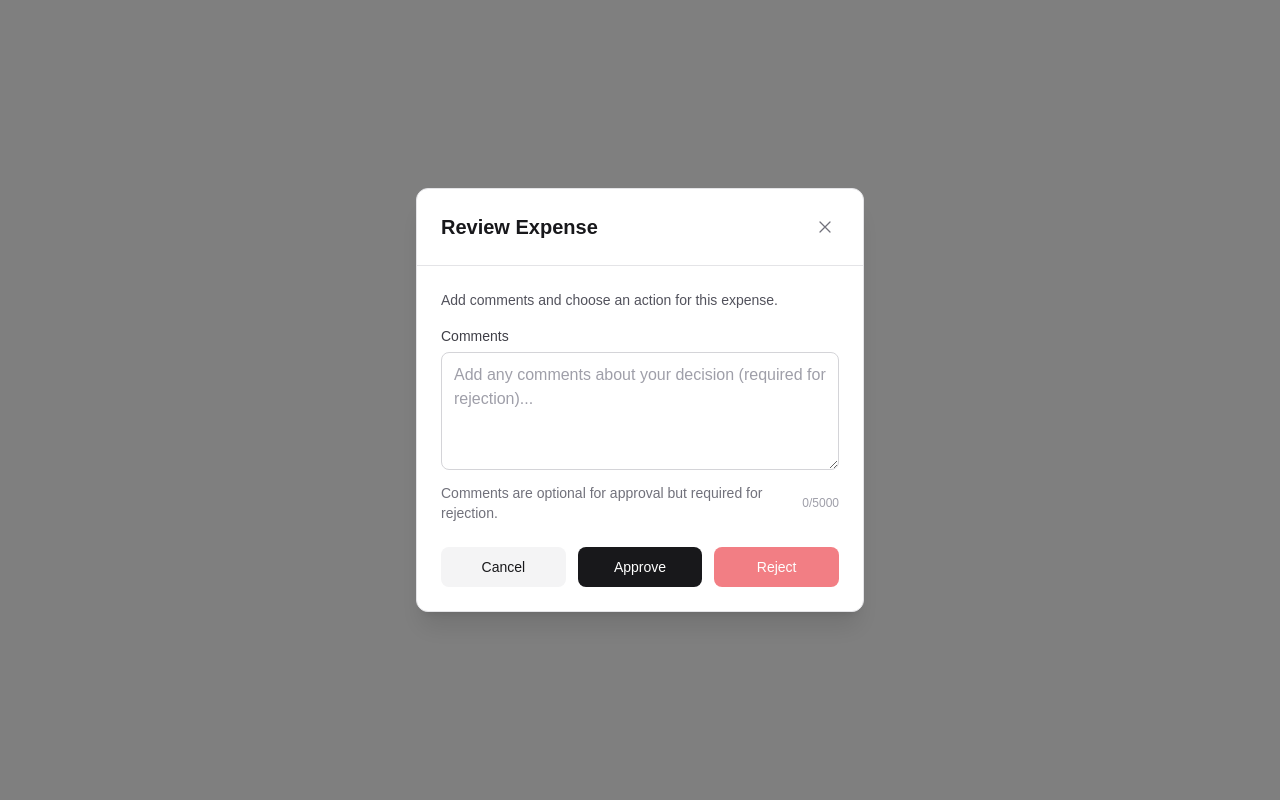
Test: ApprovalModal › Approve Functionality › should handle network error during approval
This screenshot has width=1280, height=800.
Click the button "Approve".
click(640, 567)  # box [578,547,702,587]
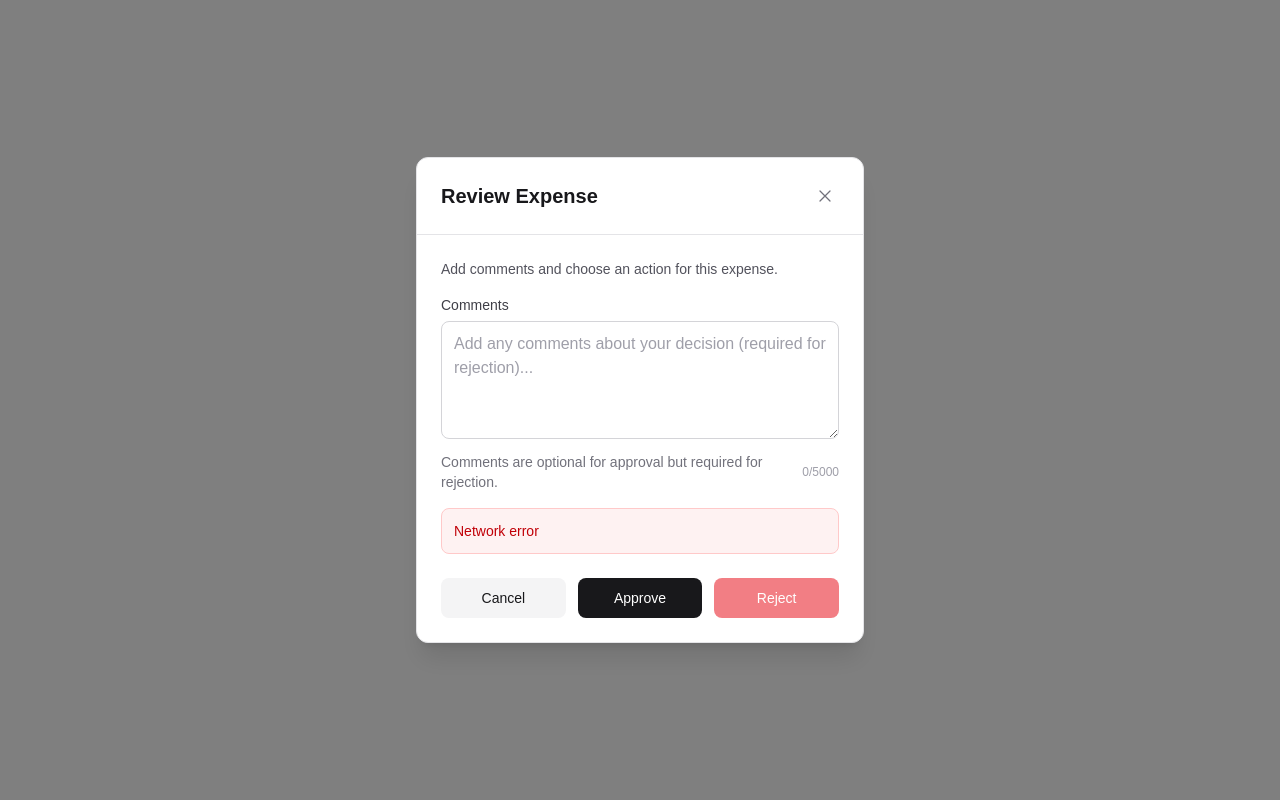
Check: the text "Network error" is shown, box [454,523,539,539]
